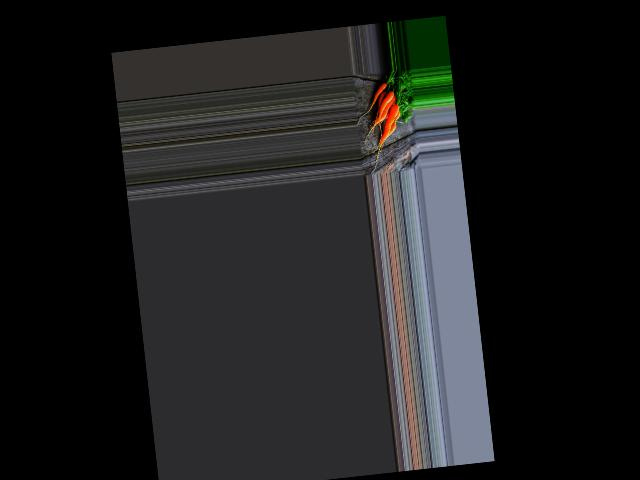carrot: (377, 99, 403, 141)
